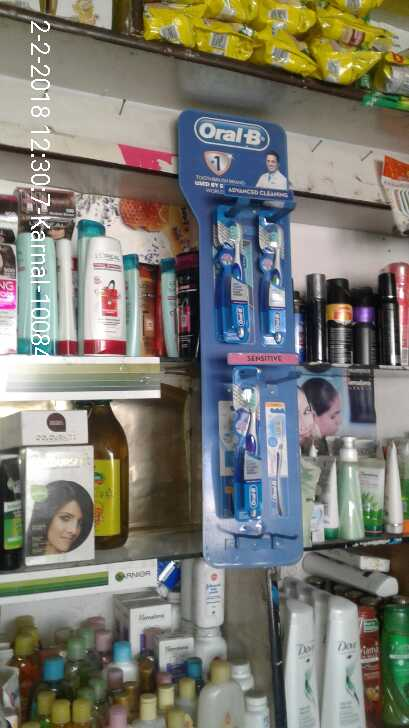oralb: (222, 214, 254, 344), (235, 382, 262, 521), (261, 220, 290, 348)
